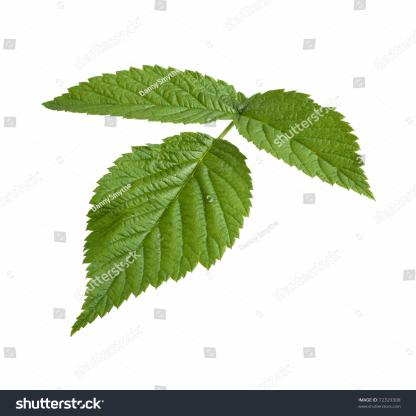raspberry leaf: (82, 138, 253, 335), (233, 83, 377, 199), (32, 64, 249, 123)
